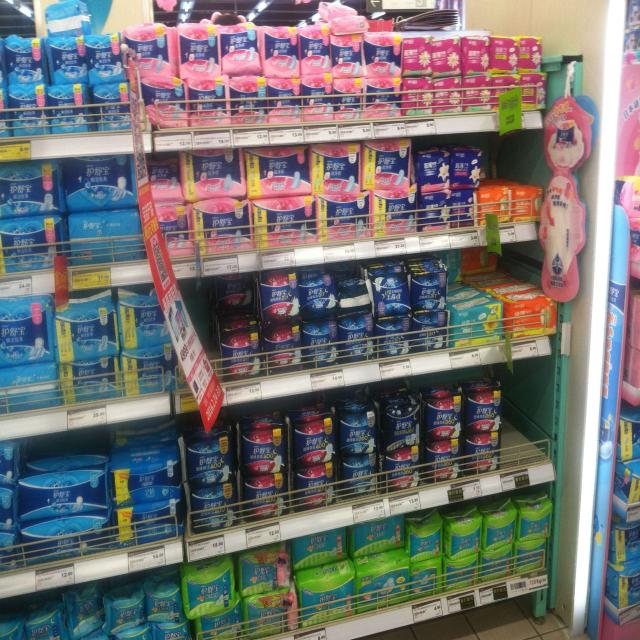void: (500, 369, 527, 492), (526, 369, 550, 487)
